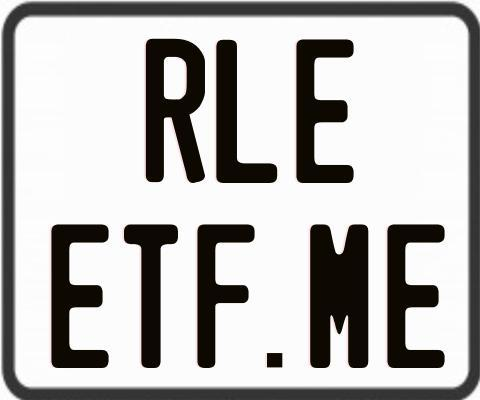E: (385, 224, 448, 370), (50, 222, 111, 367), (296, 36, 354, 182)
F: (195, 222, 254, 368)
L: (215, 39, 278, 183)
M: (310, 222, 368, 366)
R: (146, 39, 211, 188)
T: (122, 224, 178, 370)
